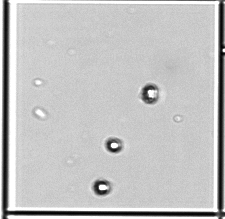Living Cell: (138, 82, 163, 106), (105, 135, 124, 154), (92, 179, 113, 196)
